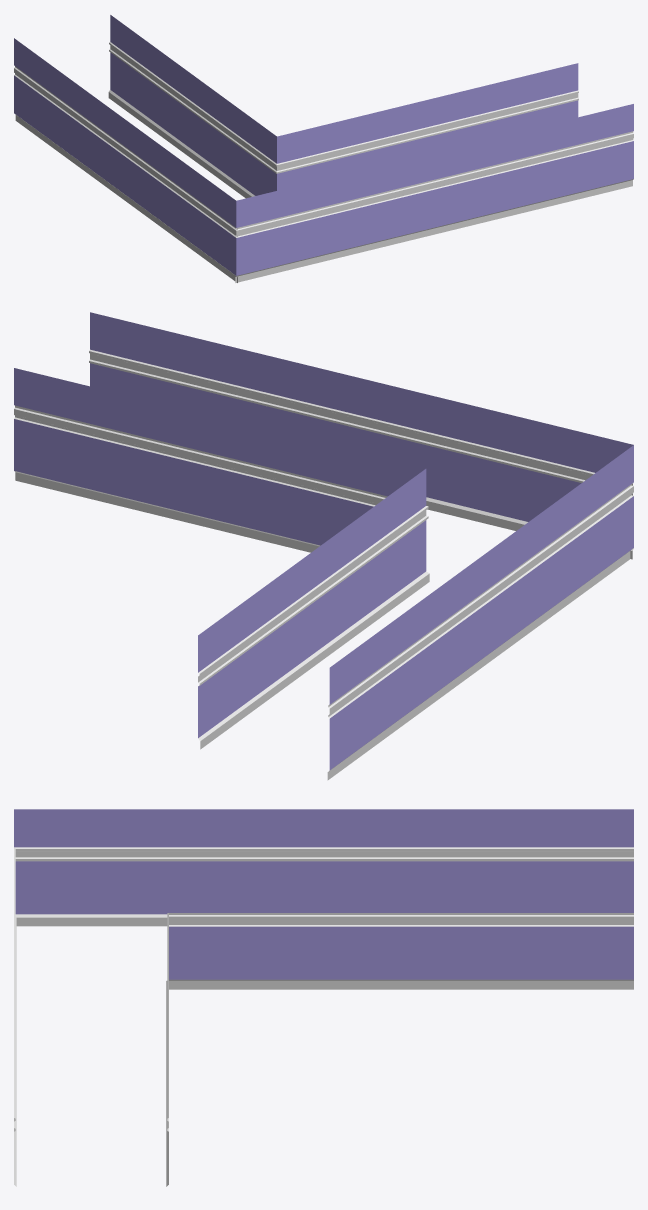
Rendered from Entrance Walls.fbx.
The picture shows the model from 3 angles, top to bottom: view 1: azimuth 30°, elevation 25°; view 2: azimuth 150°, elevation 25°; view 3: azimuth 270°, elevation 25°; orthographic projection. The views are drawn at different scales.
Parts seen in each view (by area): view 1: wall.072, wall.074, wall.076, wall.080, wall.068, wall.078, wall.065, wall.070, wall.081, wall.082, wall.077, wall.067 (+25 smaller); view 2: wall.069, wall.075, wall.080, wall.071, wall.067, wall.073, wall.078, wall.077, wall.081, wall.070, wall.076, wall.068 (+25 smaller); view 3: wall.084, wall.083, wall.087, wall.089, wall.122, wall.123, wall.124, wall.125, wall.130, wall.085, wall.086, wall.088 (+6 smaller).
Boxes of the visible parts, <box> form: wall.072: <box>466,135,505,226</box>; wall.074: <box>428,144,467,235</box>; wall.076: <box>389,154,428,245</box>; wall.080: <box>312,172,351,264</box>; wall.068: <box>543,116,582,207</box>; wall.078: <box>351,163,390,254</box>; wall.065: <box>582,107,621,198</box>; wall.070: <box>505,125,544,217</box>; wall.081: <box>274,182,313,273</box>; wall.082: <box>235,191,274,282</box>; wall.077: <box>334,113,373,176</box>; wall.067: <box>527,66,566,129</box>; wall.069: <box>83,385,137,510</box>; wall.075: <box>241,423,295,548</box>; wall.080: <box>474,406,528,530</box>; wall.071: <box>136,398,190,523</box>; wall.067: <box>31,372,84,497</box>; wall.073: <box>189,410,242,535</box>; wall.078: <box>422,393,475,520</box>; wall.077: <box>294,436,347,552</box>; wall.081: <box>527,419,581,521</box>; wall.070: <box>211,342,265,428</box>; wall.076: <box>369,381,423,467</box>; wall.068: <box>159,329,212,416</box>; wall.084: <box>76,809,137,926</box>; wall.083: <box>14,809,75,926</box>; wall.087: <box>200,874,261,989</box>; wall.089: <box>262,874,323,989</box>; wall.122: <box>324,874,385,989</box>; wall.123: <box>386,874,447,989</box>; wall.124: <box>448,874,509,989</box>; wall.125: <box>510,874,571,989</box>; wall.130: <box>572,874,633,989</box>; wall.085: <box>138,809,199,926</box>; wall.086: <box>200,809,261,874</box>; wall.088: <box>262,809,323,874</box>.
Size of the model in its own units: 4130 by 825 by 4000.
